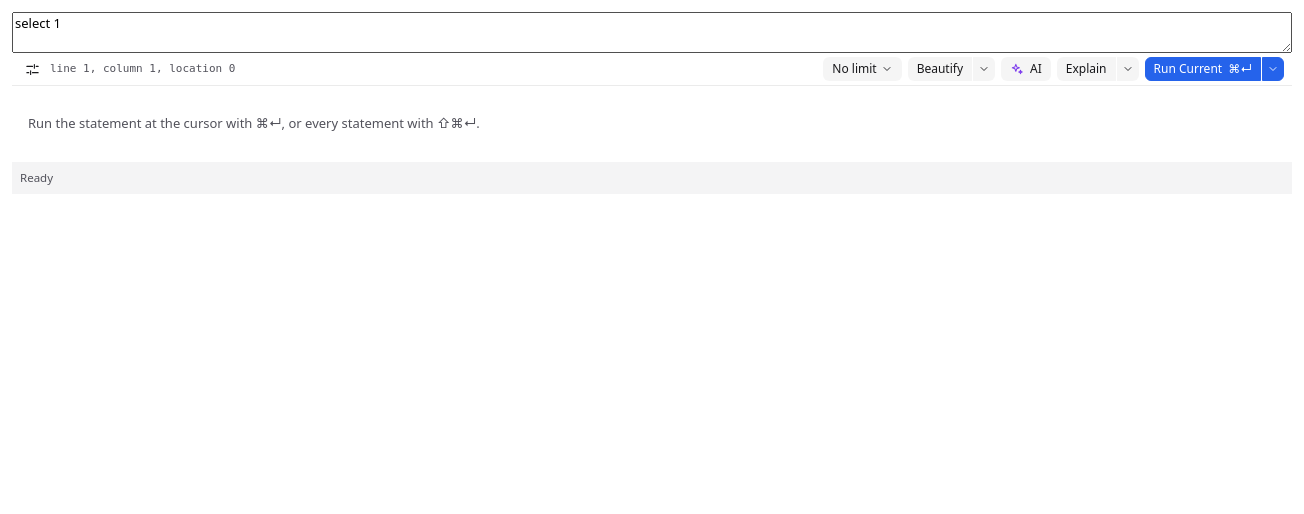
Test case: explains from the editor bar into a closable Query Plan result tab
Click the button "Explain".
click(1086, 69)  # box [1057,57,1116,81]
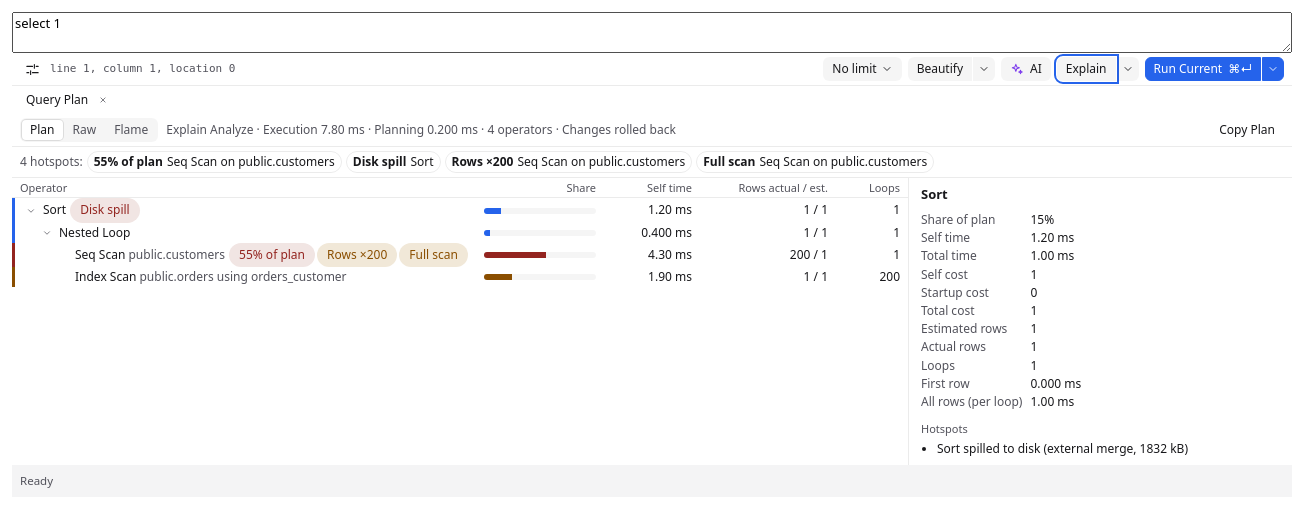
Now the element named "Plan operators" is shown, box [12,198,908,287]
Click the button named "Close Query Plan".
click(103, 100)  # box [96,93,110,107]
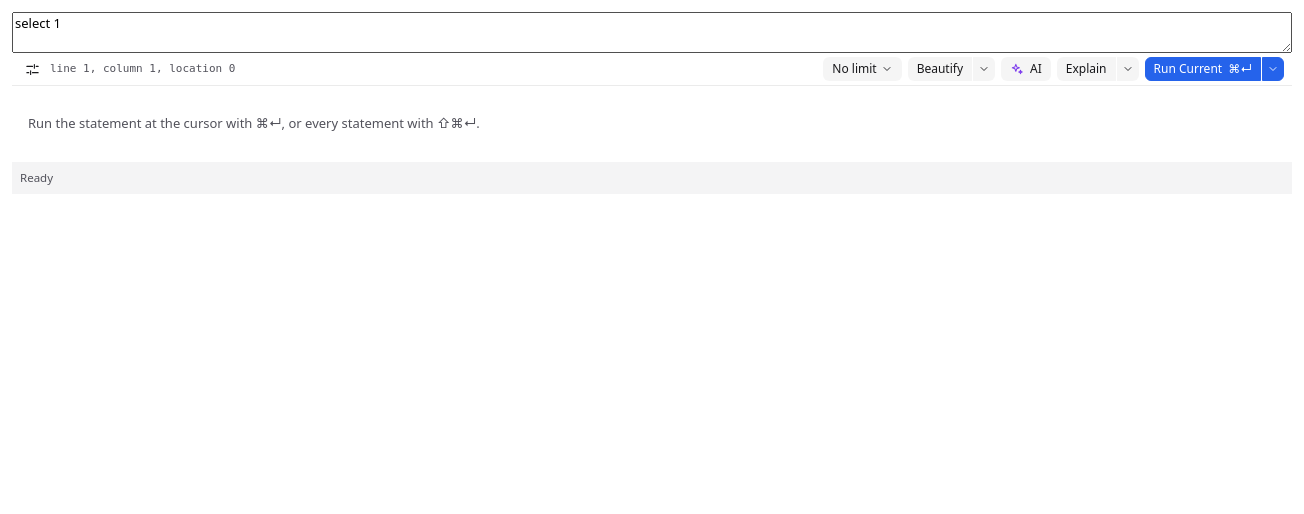
Now the tab "Query Plan" is gone
